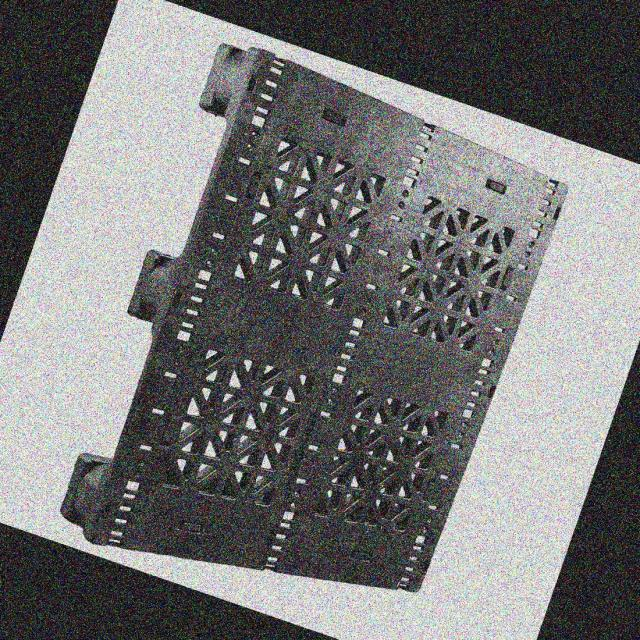non-igps: (55, 38, 576, 597)
